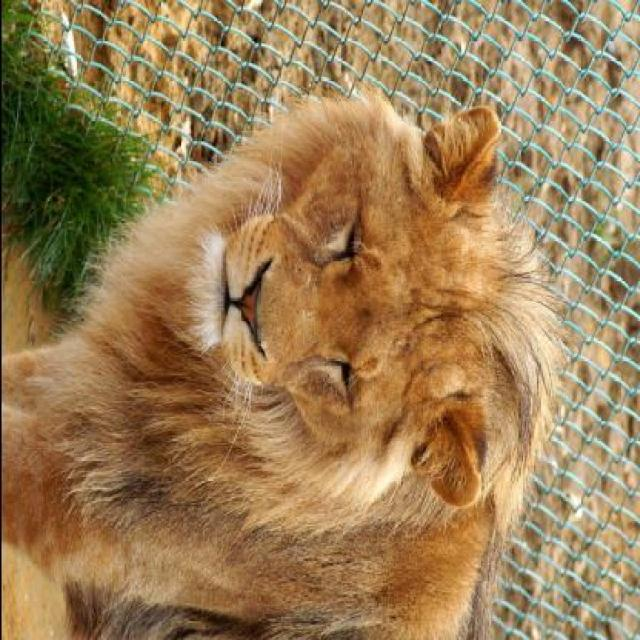Lion: (2, 32, 564, 630)
